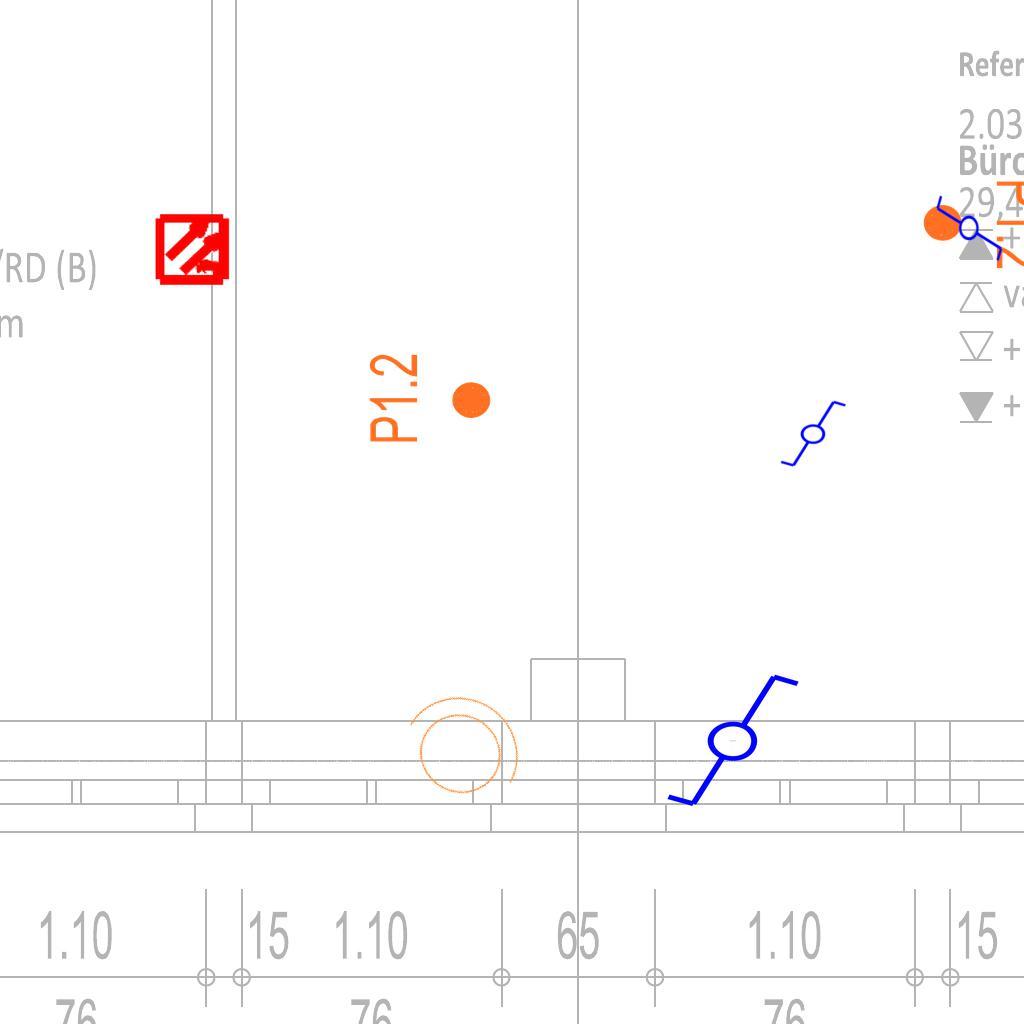Downlight_LED_Einbauleuchten_Flur: (366, 352, 494, 445), (920, 178, 1024, 271)
OT_Multisensormelder_(Kombination_RMO_WMD): (138, 193, 251, 306)
Scheinwerfer_fuer_Alarmbeleuchtung: (374, 666, 546, 830)
Wechselschalter: (646, 667, 803, 811), (770, 397, 848, 469), (934, 185, 1006, 263)
